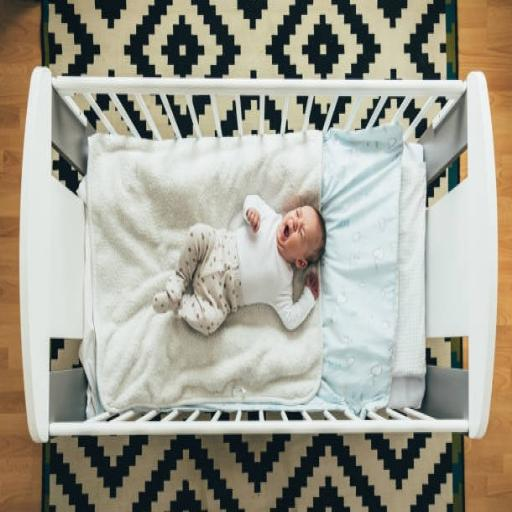baby: (153, 196, 325, 334)
crib: (48, 109, 469, 420)
